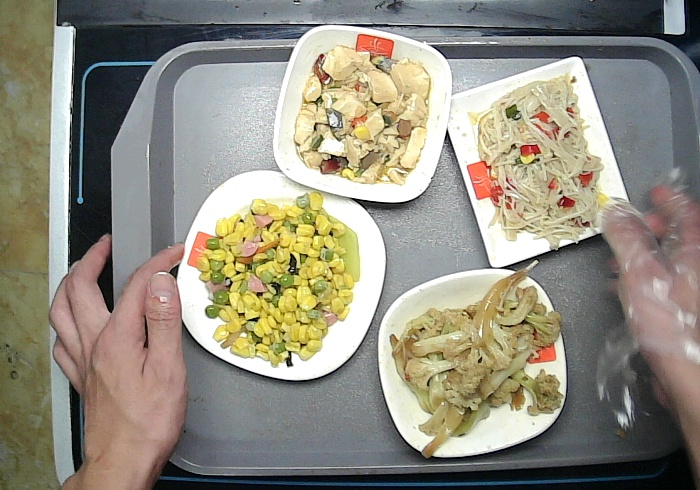SHKJ-Bai_Se_Cai_Die: (376, 269, 567, 458)
SHKJ-Bai_Se_Si_Fang_Cai_Die: (175, 169, 388, 380)
SHKJ-Bai_Se_Xiao_Fang_Die: (272, 24, 453, 205)
SHKJ-Si_Fang_Min: (444, 55, 635, 270)
